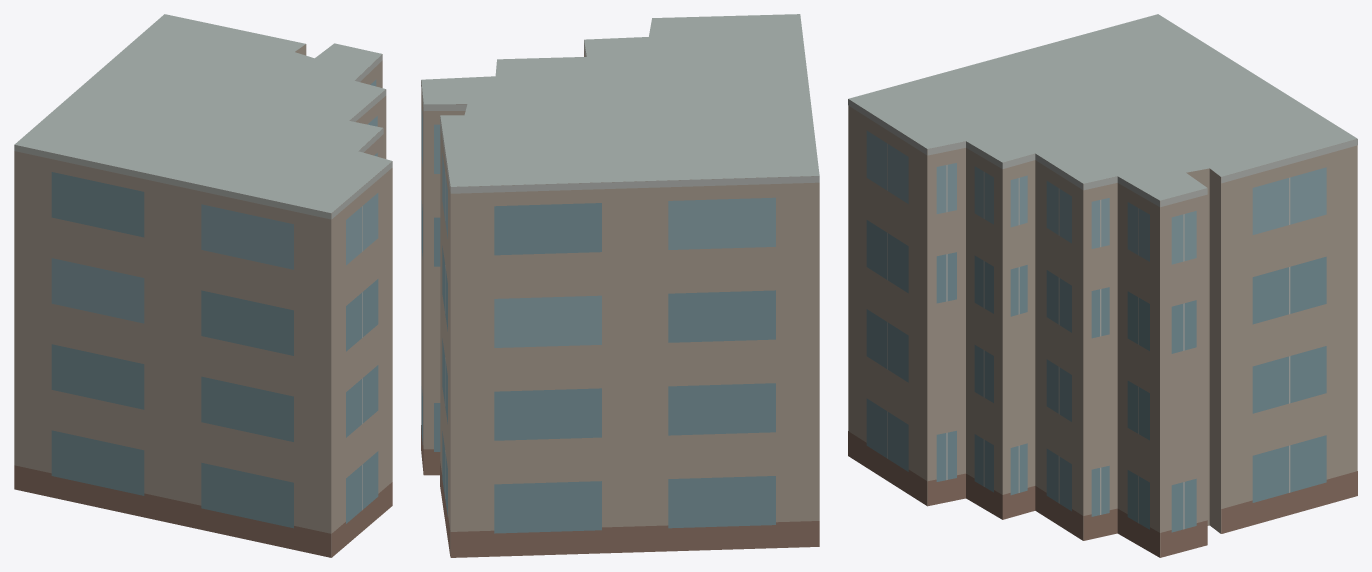
Rendered from survey-upis-32508784.glb.
3 renders of one model, left to right at view 1: azimuth 30°, elevation 25°; view 2: azimuth 150°, elevation 25°; view 3: azimuth 270°, elevation 25°, orthographic. The views are drawn at different scales.
Visible parts, largest first — view 1: survey-upis-32508784.tmp; view 2: survey-upis-32508784.tmp; view 3: survey-upis-32508784.tmp.
Boxes of the visible parts, left/top/right/bottom form: survey-upis-32508784.tmp: left=14, top=14, right=392, bottom=557; survey-upis-32508784.tmp: left=421, top=14, right=819, bottom=557; survey-upis-32508784.tmp: left=848, top=14, right=1357, bottom=557.
Size of the model in its own units: 14.92 by 13.3 by 17.21.
